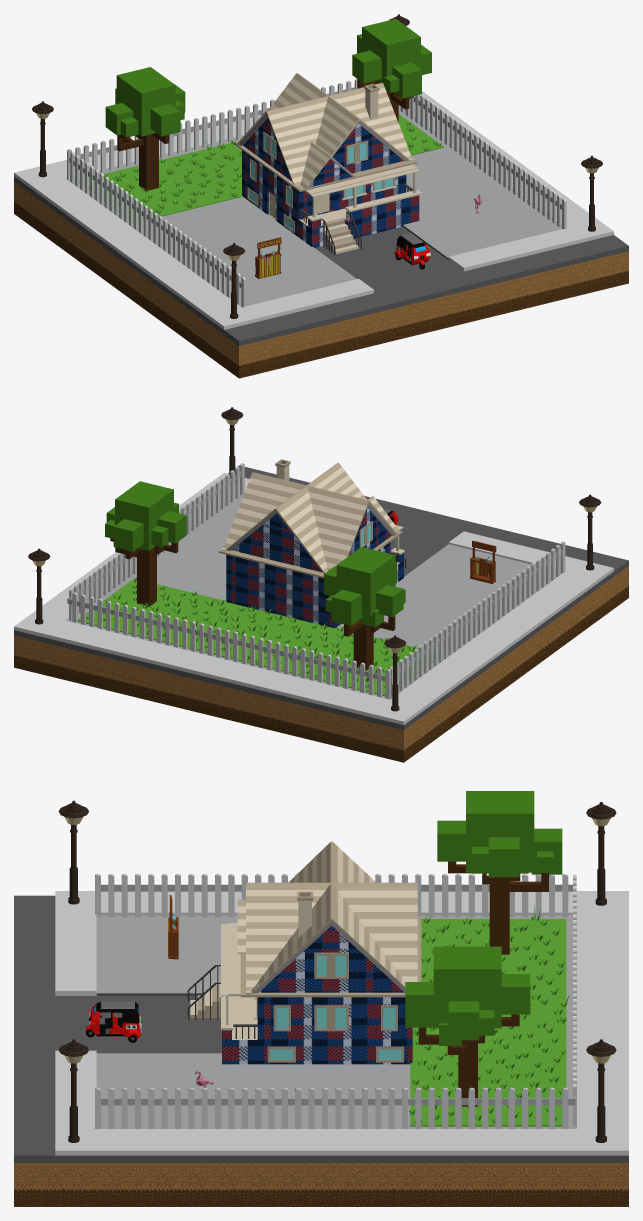
The picture shows the model from 3 angles, top to bottom: view 1: azimuth 30°, elevation 25°; view 2: azimuth 150°, elevation 25°; view 3: azimuth 270°, elevation 25°; orthographic projection. The views are drawn at different scales.
Visible parts, largest first — view 1: Cube.004, Cube.171, VEHICLES_TUC_TUC, OBJRANDOM_LEMONADE_STAND; view 2: Cube.004, Cube.171, OBJRANDOM_LEMONADE_STAND; view 3: Cube.004, Cube.171, VEHICLES_TUC_TUC.
Part boxes in pixels (left/top/right/bottom): Cube.004: left=14, top=14, right=628, bottom=378; Cube.171: left=233, top=73, right=422, bottom=255; VEHICLES_TUC_TUC: left=394, top=233, right=430, bottom=269; OBJRANDOM_LEMONADE_STAND: left=255, top=237, right=281, bottom=278; Cube.004: left=14, top=407, right=628, bottom=762; Cube.171: left=218, top=459, right=406, bottom=627; OBJRANDOM_LEMONADE_STAND: left=470, top=540, right=496, bottom=583; Cube.004: left=14, top=791, right=628, bottom=1206; Cube.171: left=187, top=841, right=421, bottom=1064; VEHICLES_TUC_TUC: left=86, top=1001, right=141, bottom=1042.
Size of the model in its own units: 4000 by 1617 by 4000.
38 materials, 4 textured.
